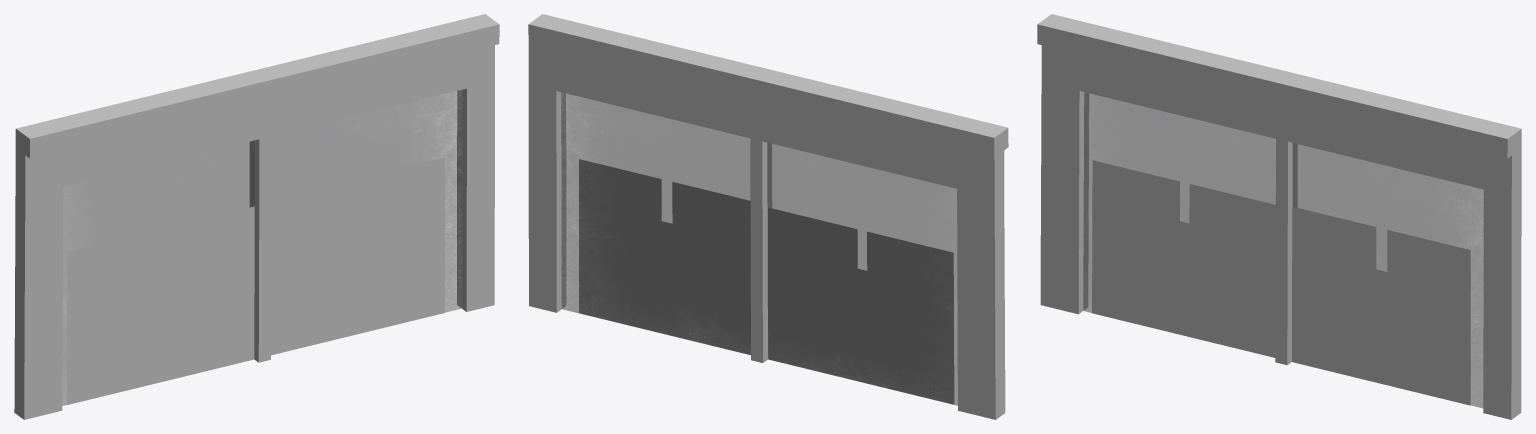
Rendered from shop_06a.fbx.
The picture shows the model from 3 angles, left to right: view 1: azimuth 30°, elevation 25°; view 2: azimuth 150°, elevation 25°; view 3: azimuth 330°, elevation 25°; orthographic projection.
Visible parts, largest first — view 1: shop_06a; view 2: shop_06a; view 3: shop_06a.
Part boxes in pixels (left/top/right/bottom): shop_06a: left=14, top=14, right=499, bottom=419; shop_06a: left=528, top=14, right=1008, bottom=419; shop_06a: left=1037, top=14, right=1521, bottom=419.
Bounding box in the file's own units: 5.29 × 3.05 × 0.2752.
